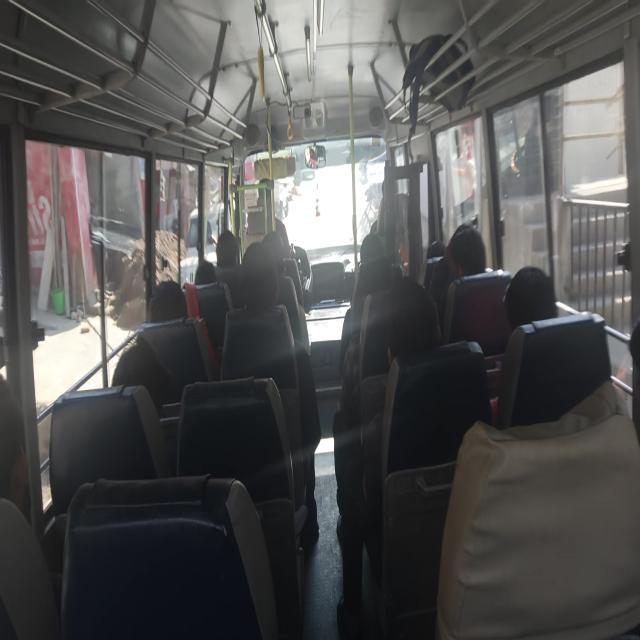person: (1, 365, 35, 518), (501, 258, 574, 328), (386, 277, 442, 364), (110, 330, 172, 403), (241, 242, 285, 325), (449, 220, 484, 289), (144, 268, 187, 322), (362, 256, 401, 298), (212, 221, 242, 270), (249, 168, 281, 212), (376, 171, 406, 212), (359, 224, 383, 264), (264, 227, 286, 266), (192, 259, 221, 287), (423, 236, 452, 258)
